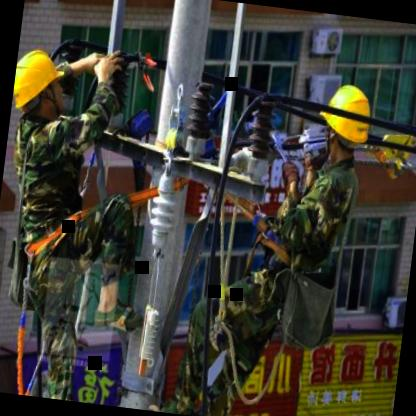helmet: (312, 74, 382, 162), (9, 39, 74, 132)
